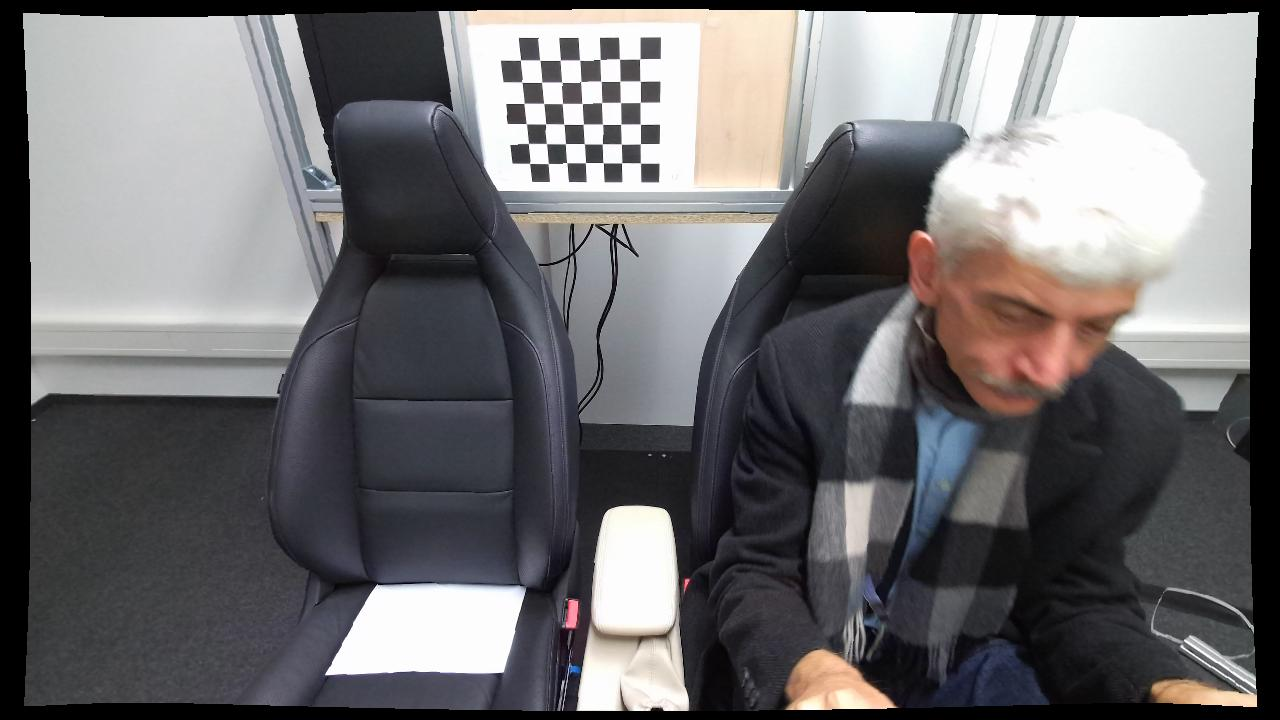Distracted: (706, 112, 1208, 710)
